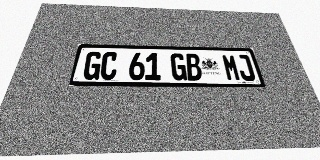1: (145, 53, 161, 80)
6: (129, 52, 145, 80)
B: (185, 53, 203, 81)
C: (99, 52, 118, 80)
G: (82, 51, 103, 80), (170, 53, 187, 80)
J: (235, 55, 256, 81)
M: (221, 54, 242, 81)
